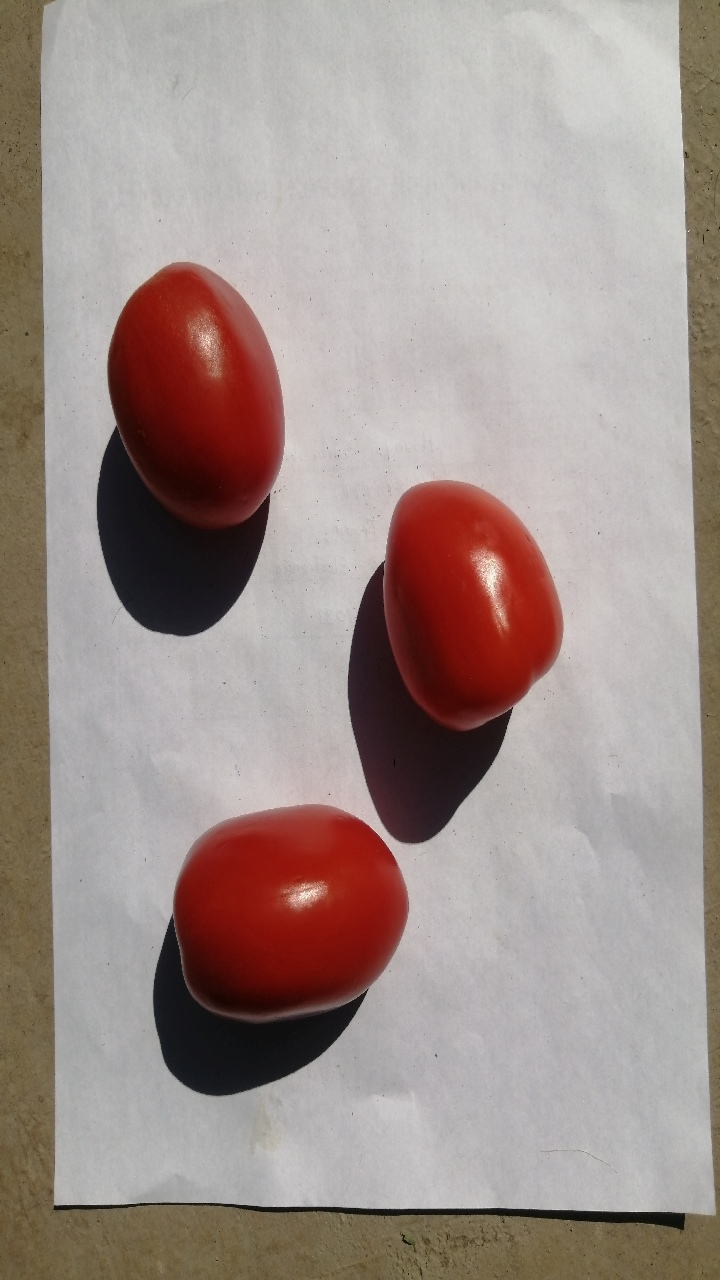tomateRojo: (137, 774, 424, 1057), (343, 449, 594, 745), (92, 234, 301, 537)
